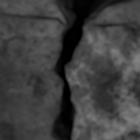broken_brick: (67, 21, 139, 139), (0, 20, 59, 139), (0, 11, 64, 23)
crack: (0, 0, 137, 139)
